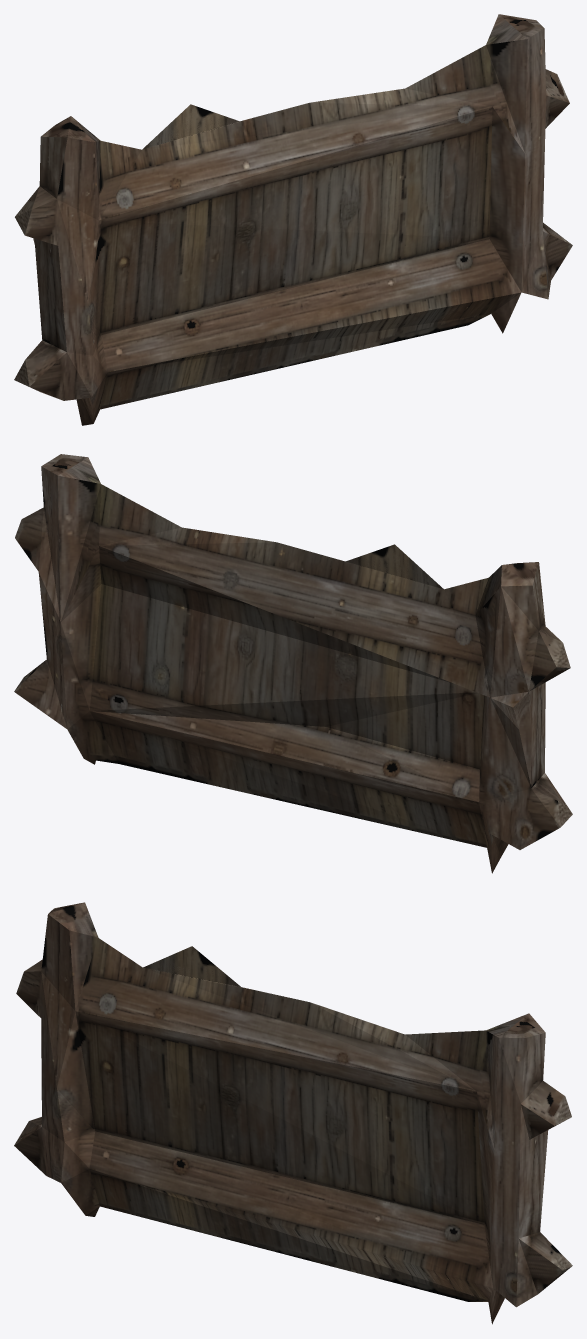
Rendered from westfall_fence_lod1.glb.
3 views of the same model, one above another, from view 1: azimuth 30°, elevation 25°; view 2: azimuth 150°, elevation 25°; view 3: azimuth 330°, elevation 25° (orthographic).
Parts seen in each view (by area): view 1: geometry_0; view 2: geometry_0; view 3: geometry_0.
Boxes of the visible parts, bbox=[...] form: geometry_0: bbox=[14, 14, 572, 425]; geometry_0: bbox=[14, 454, 572, 873]; geometry_0: bbox=[14, 902, 572, 1324].
Bounding box in the file's own units: 3.01 × 1.64 × 0.3437.
Materials: 1 (1 with a texture image).
